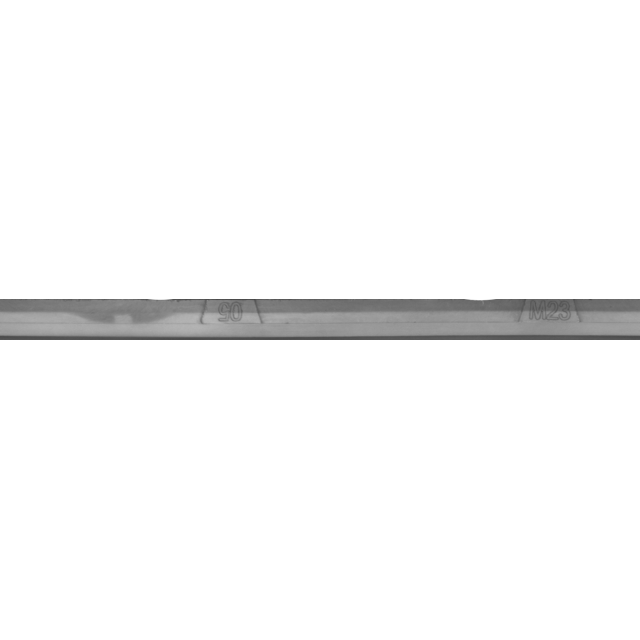mohao: (448, 270, 640, 370)
xuehao: (129, 270, 329, 370)
